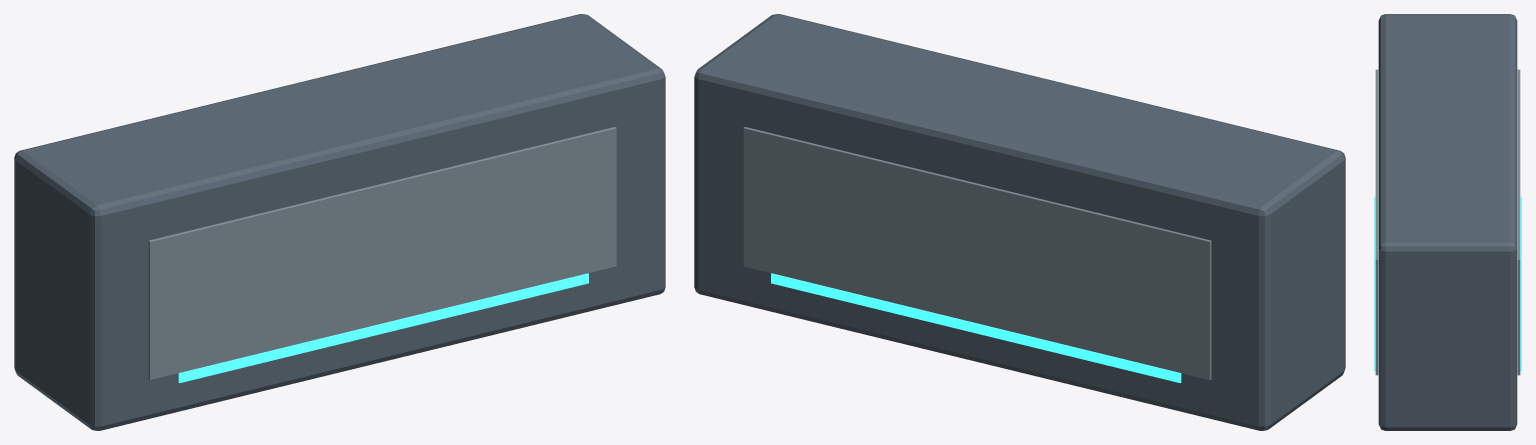
Rendered from spawn-divider.glb.
The picture shows the model from 3 angles, left to right: view 1: azimuth 30°, elevation 25°; view 2: azimuth 150°, elevation 25°; view 3: azimuth 270°, elevation 25°; orthographic projection. The views are drawn at different scales.
Parts seen in each view (by area): view 1: Visual_SpawnDivider_Shell, Visual_Merged_ZA_SpawnDivider_Root_Neutral_Steel, Visual_Merged_ZA_SpawnDivider_Root_Zero_Cyan_Emissive; view 2: Visual_SpawnDivider_Shell, Visual_Merged_ZA_SpawnDivider_Root_Neutral_Steel, Visual_Merged_ZA_SpawnDivider_Root_Zero_Cyan_Emissive; view 3: Visual_SpawnDivider_Shell, Visual_Merged_ZA_SpawnDivider_Root_Neutral_Steel, Visual_Merged_ZA_SpawnDivider_Root_Zero_Cyan_Emissive.
Part boxes in pixels (left/top/right/bottom): Visual_SpawnDivider_Shell: left=14, top=14, right=665, bottom=430; Visual_Merged_ZA_SpawnDivider_Root_Neutral_Steel: left=148, top=127, right=616, bottom=380; Visual_Merged_ZA_SpawnDivider_Root_Zero_Cyan_Emissive: left=178, top=273, right=588, bottom=383; Visual_SpawnDivider_Shell: left=694, top=14, right=1345, bottom=430; Visual_Merged_ZA_SpawnDivider_Root_Neutral_Steel: left=743, top=127, right=1211, bottom=380; Visual_Merged_ZA_SpawnDivider_Root_Zero_Cyan_Emissive: left=771, top=273, right=1181, bottom=383; Visual_SpawnDivider_Shell: left=1378, top=14, right=1517, bottom=430; Visual_Merged_ZA_SpawnDivider_Root_Neutral_Steel: left=1375, top=69, right=1520, bottom=375; Visual_Merged_ZA_SpawnDivider_Root_Zero_Cyan_Emissive: left=1374, top=196, right=1521, bottom=371.
Size of the model in its own units: 8 by 3 by 2.13.
